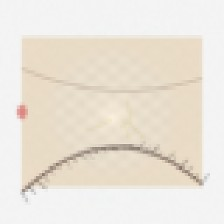corneal_ulcer: (91, 94, 155, 145)
